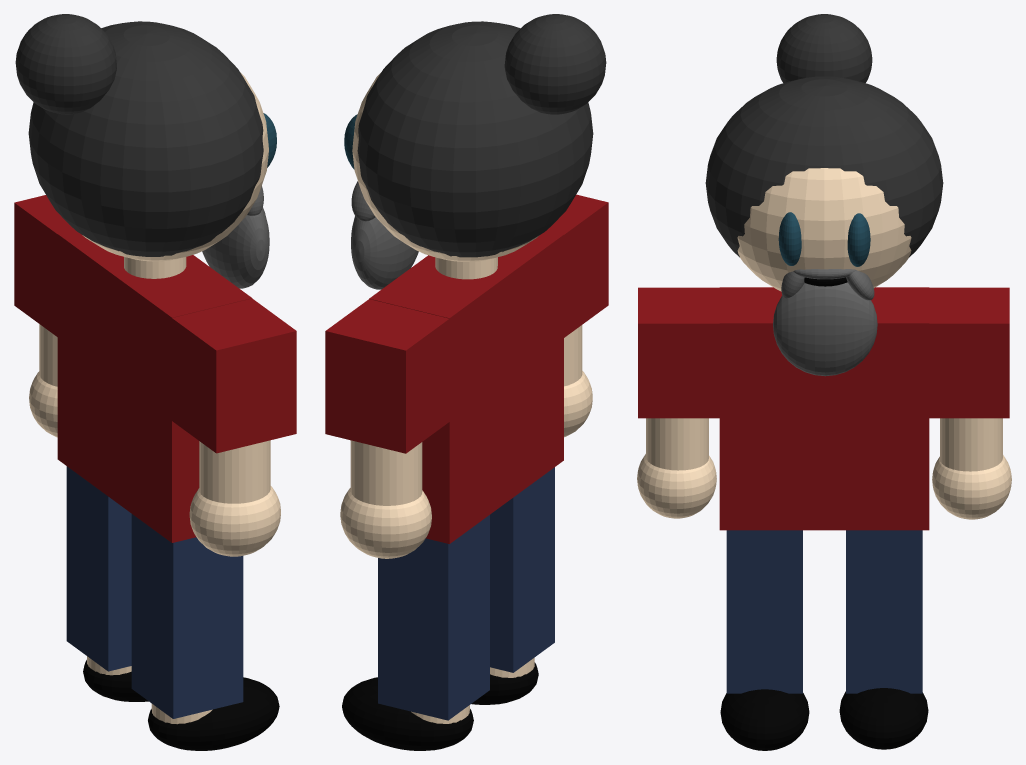
File: Billy.fbx
The picture shows the model from 3 angles, left to right: view 1: azimuth 30°, elevation 25°; view 2: azimuth 150°, elevation 25°; view 3: azimuth 270°, elevation 25°; orthographic projection. The views are drawn at different scales.
Visible parts, largest first — view 1: Sphere.001, Cube, Cube.004, Cube.001, Cube.003, Sphere.015, Sphere.002, Cube.002, Sphere.018, Sphere.009, Sphere.014, Sphere (+2 smaller); view 2: Sphere.001, Cube, Cube.003, Cube.002, Cube.004, Sphere.014, Sphere.002, Cube.001, Sphere.019, Sphere.009, Sphere.015, Sphere.018 (+3 smaller); view 3: Cube, Sphere.001, Sphere, Cube.004, Cube.003, Cube.001, Cube.002, Sphere.009, Sphere.014, Sphere.015, Sphere.002, Sphere.018 (+3 smaller).
Part boxes in pixels (box(x1,y1,x2,y2)): Sphere.001: box(28, 21, 263, 256); Cube: box(57, 230, 252, 542); Cube.004: box(131, 514, 243, 718); Cube.001: box(171, 298, 296, 453); Cube.003: box(66, 466, 131, 671); Sphere.015: box(189, 440, 280, 556); Sphere.002: box(15, 14, 116, 114); Cube.002: box(14, 195, 74, 337); Sphere.018: box(148, 677, 279, 750); Sphere.009: box(202, 207, 269, 288); Sphere.014: box(29, 324, 57, 437); Sphere: box(82, 72, 268, 261); Sphere.001: box(357, 21, 593, 257); Cube: box(369, 230, 563, 543); Cube.003: box(378, 515, 489, 720); Cube.002: box(325, 299, 450, 453); Cube.004: box(490, 467, 554, 672); Sphere.014: box(340, 440, 431, 558); Sphere.002: box(504, 14, 606, 114); Cube.001: box(547, 194, 608, 337); Sphere.019: box(342, 677, 473, 750); Sphere.009: box(351, 216, 418, 289); Sphere.015: box(564, 325, 592, 437); Sphere.018: box(471, 657, 538, 704); Cube: box(719, 287, 929, 530); Sphere.001: box(705, 76, 943, 257); Sphere: box(737, 168, 911, 291); Cube.004: box(726, 530, 802, 693); Cube.003: box(846, 530, 922, 693); Cube.001: box(638, 287, 719, 418); Cube.002: box(927, 287, 1009, 418); Sphere.009: box(773, 282, 877, 376); Sphere.014: box(932, 418, 1011, 519); Sphere.015: box(637, 418, 716, 518); Sphere.002: box(776, 14, 872, 82); Sphere.018: box(720, 689, 809, 750).
Bounding box in the file's own units: 238 × 704 × 357.
